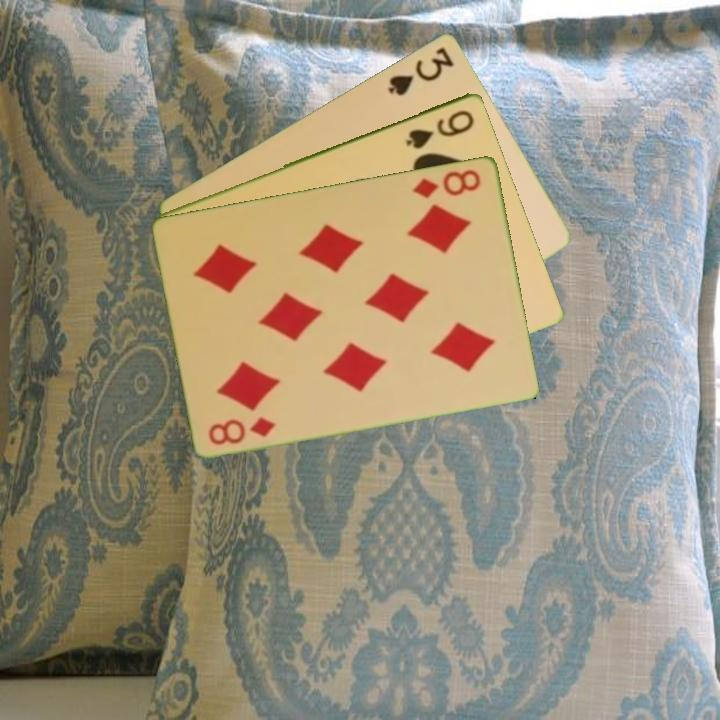3s: (384, 42, 457, 99)
8d: (409, 165, 484, 201), (205, 412, 279, 448)
9s: (402, 105, 478, 152)
